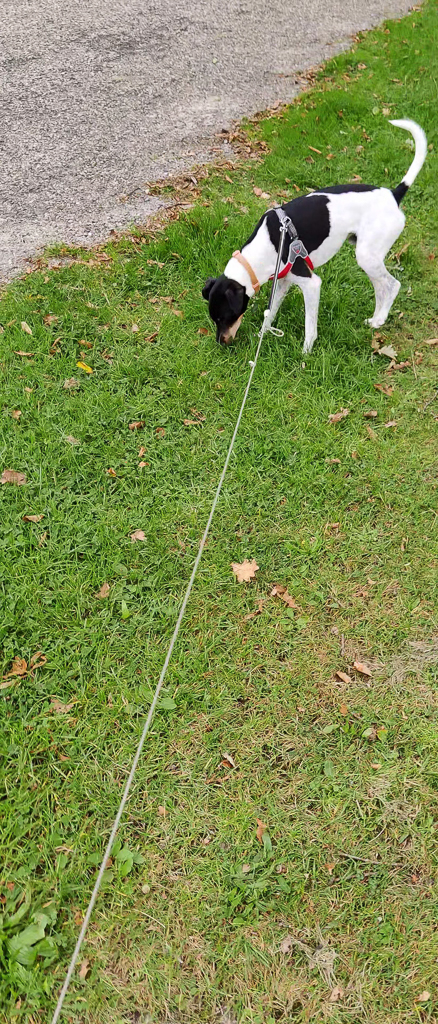Dog: (187, 110, 436, 369)
